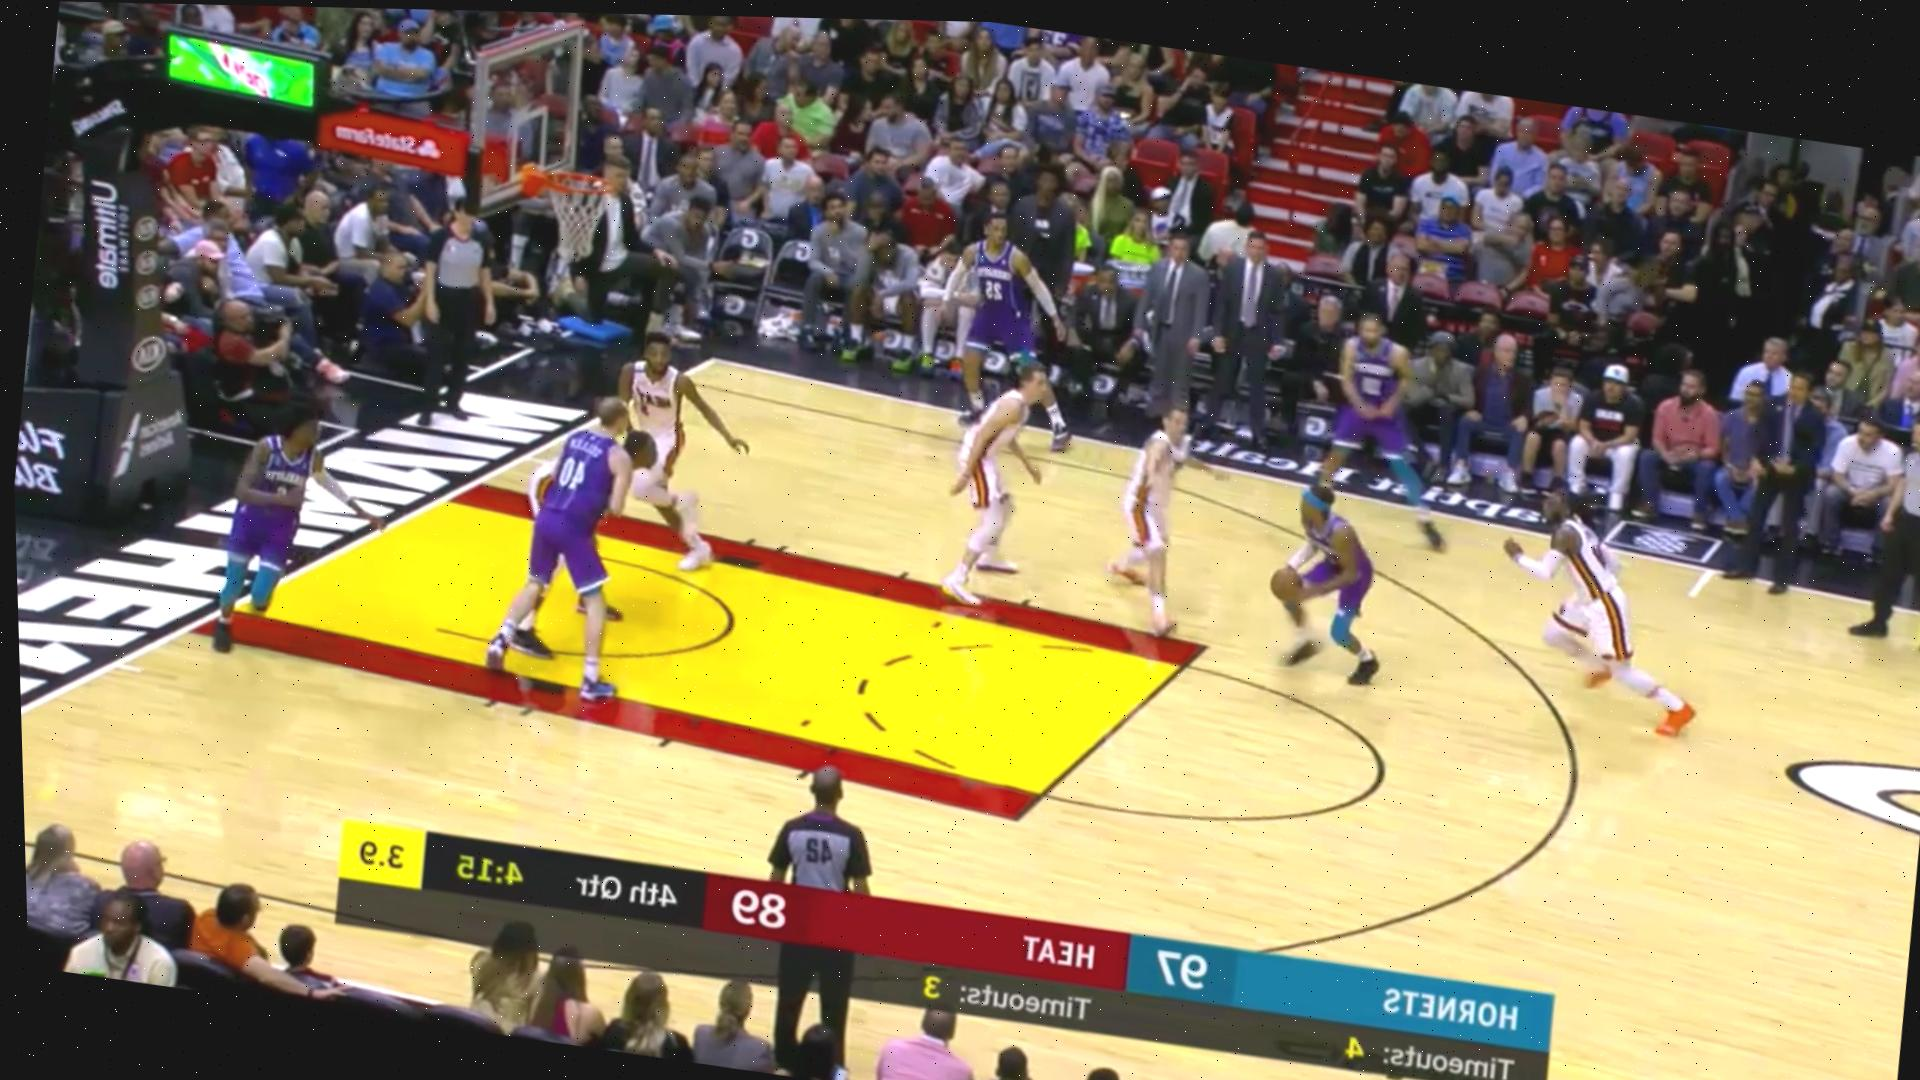no_foul: (490, 319, 709, 694)
